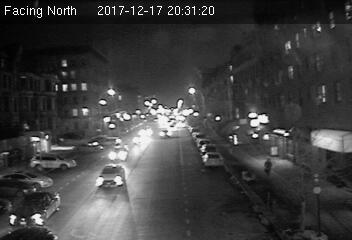car: (5, 191, 64, 229), (96, 164, 126, 190), (106, 144, 132, 163), (203, 152, 222, 165), (158, 128, 172, 139)
